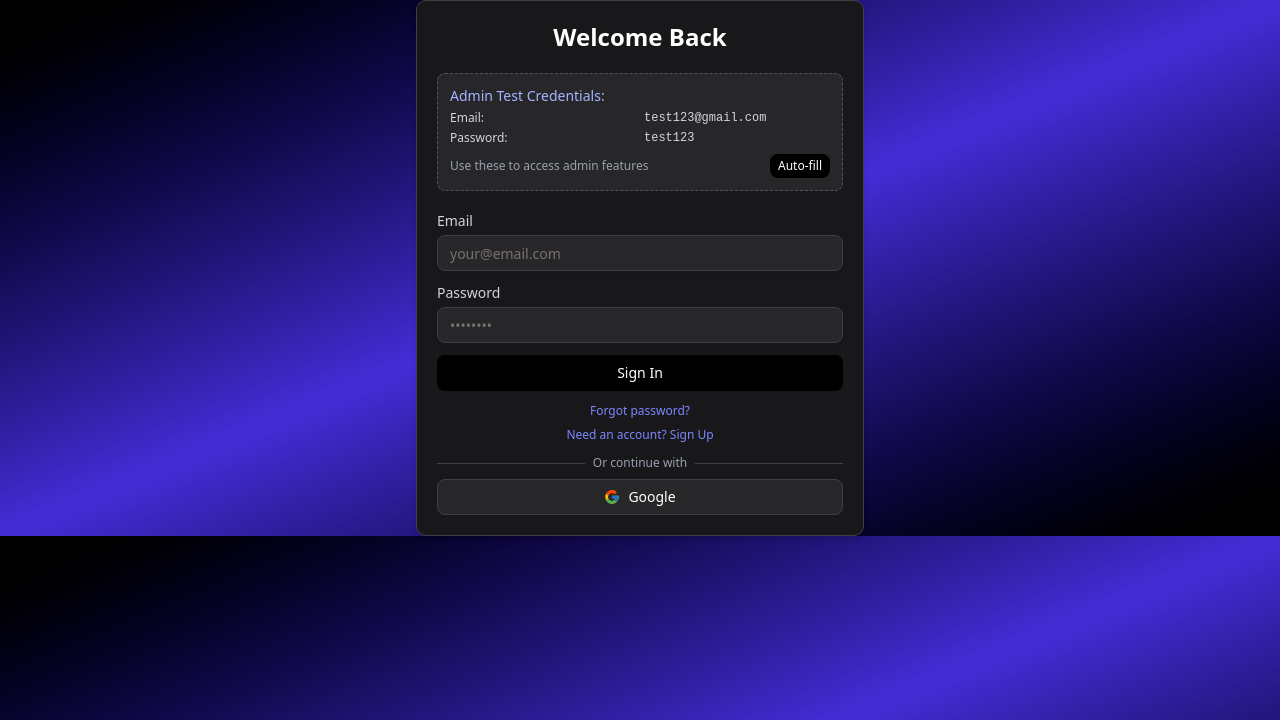
Test: LoginForm › switches to signup mode
This screenshot has width=1280, height=720.
Click the button "Need an account? Sign Up".
click(640, 435)  # box [437,427,843,443]
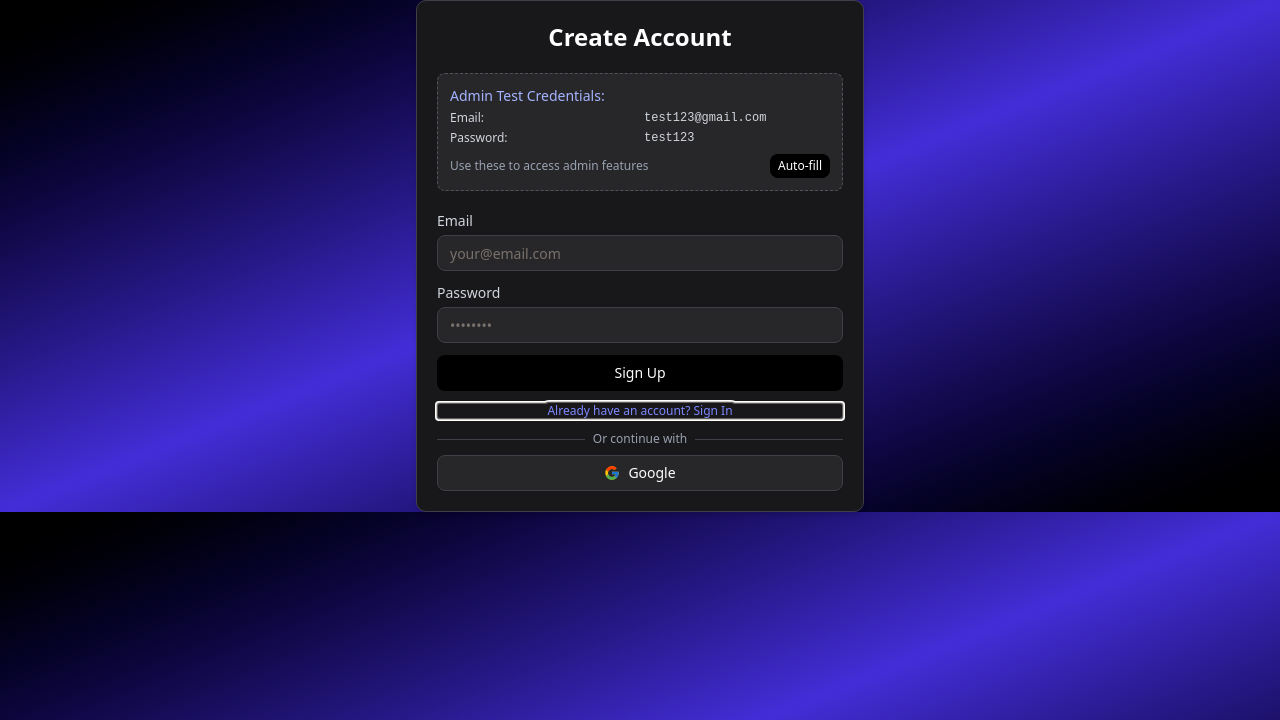
Expected: the heading "Create Account" is shown, [548,20,732,53]
